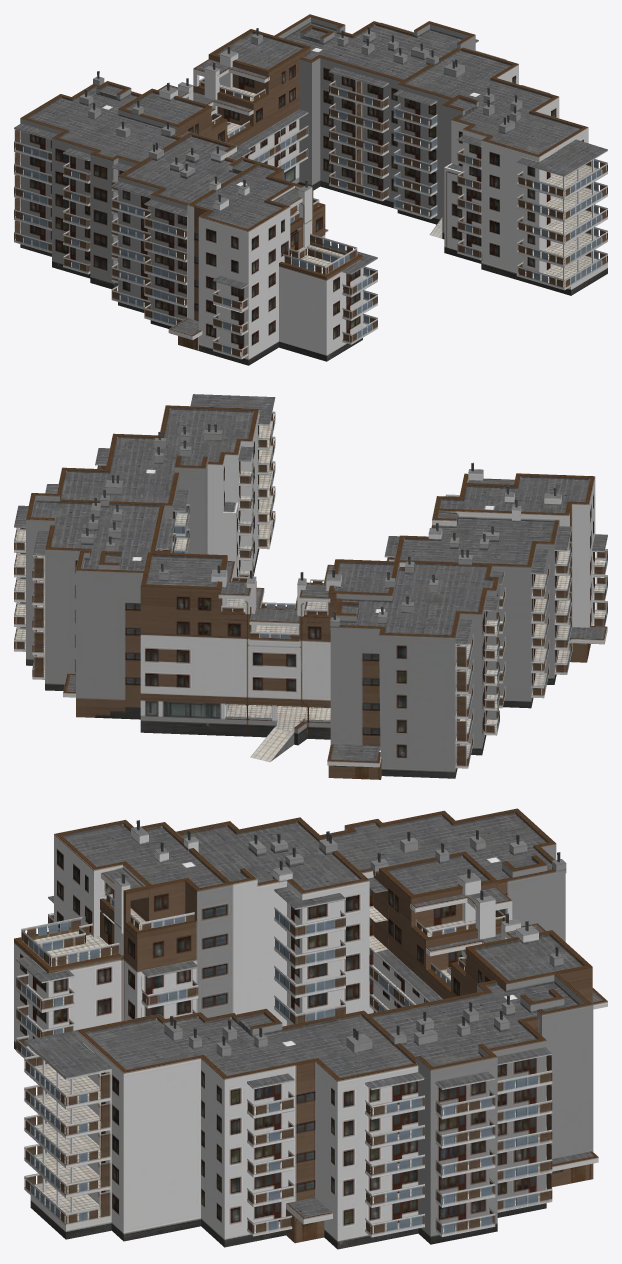
Rendered from housing_estate.glb.
The picture shows the model from 3 angles, top to bottom: view 1: azimuth 30°, elevation 25°; view 2: azimuth 150°, elevation 25°; view 3: azimuth 270°, elevation 25°; orthographic projection. The views are drawn at different scales.
Visible parts, largest first — view 1: Object_2; view 2: Object_2; view 3: Object_2.
Boxes of the visible parts, left/top/right/bottom form: Object_2: left=14, top=14, right=607, bottom=365; Object_2: left=14, top=394, right=607, bottom=779; Object_2: left=14, top=808, right=607, bottom=1249.
Size of the model in its own units: 60.97 by 19.33 by 54.65.
Materials: 1 (1 with a texture image).
